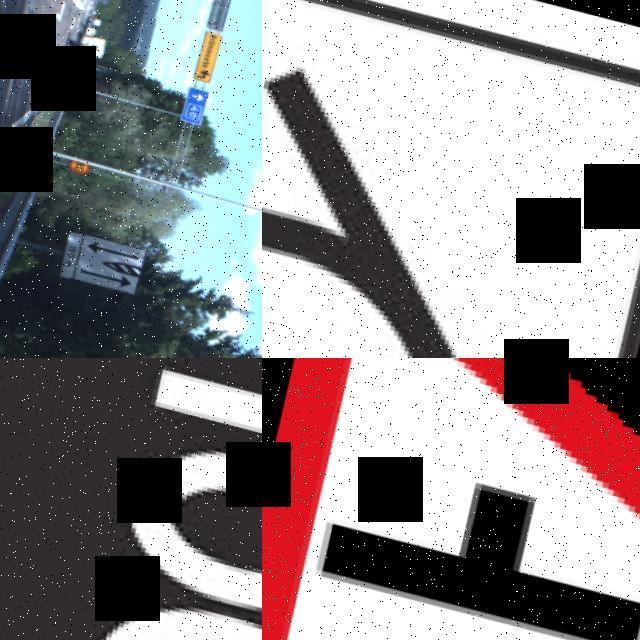100: (0, 358, 262, 640)
172: (176, 81, 212, 126)
173: (188, 24, 226, 84)
55: (66, 154, 91, 176)
66: (68, 229, 150, 296)
Side road junction: (262, 358, 640, 640)
adjoining way: (262, 0, 640, 358)
